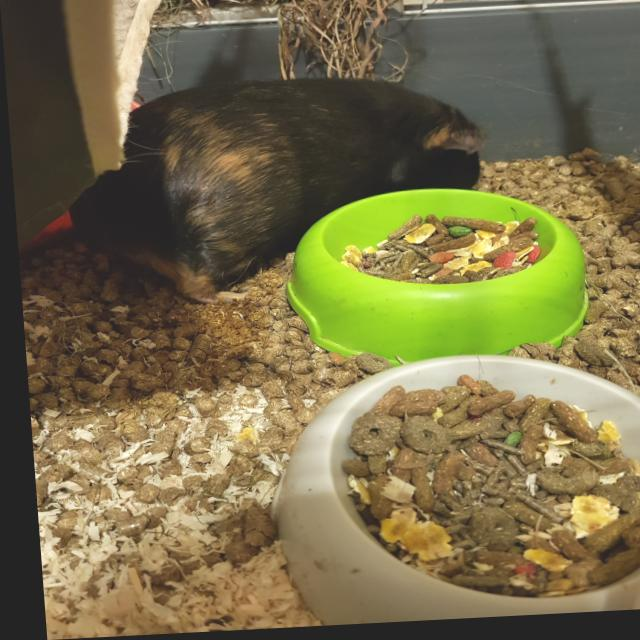guinea pig: (63, 74, 488, 312)
